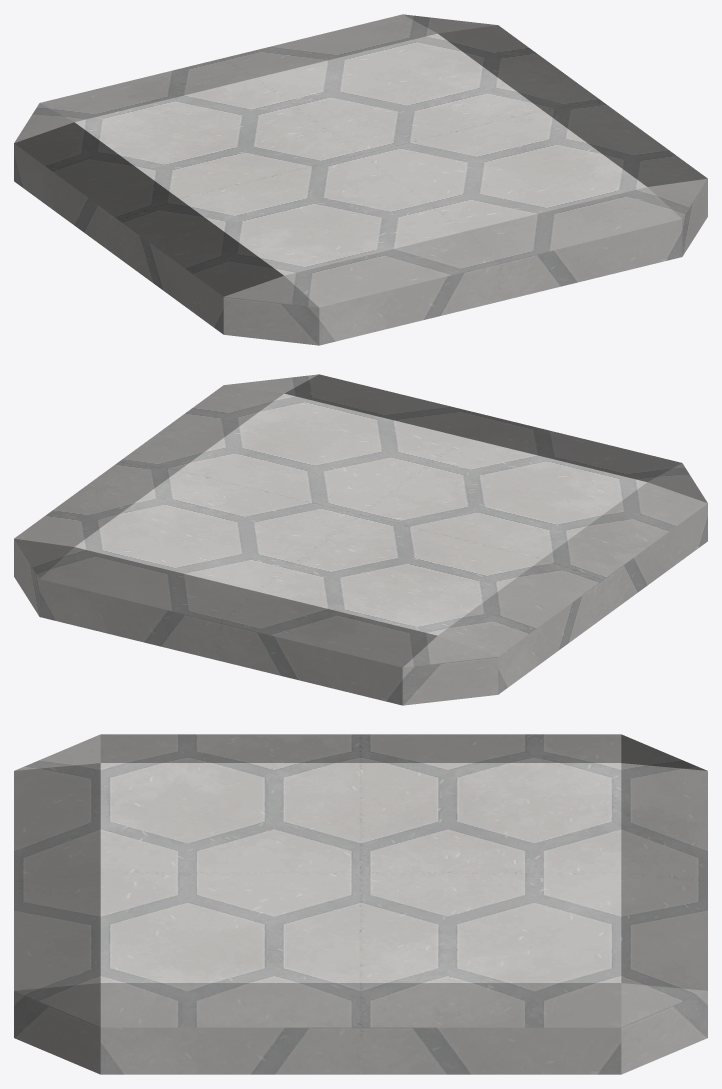
The model's file is basic-groundtile.obj.
The picture shows the model from 3 angles, top to bottom: view 1: azimuth 30°, elevation 25°; view 2: azimuth 150°, elevation 25°; view 3: azimuth 270°, elevation 25°; orthographic projection. The views are drawn at different scales.
Bounding box in the file's own units: 1 × 0.1 × 1.
Materials: 1 (1 with a texture image).
